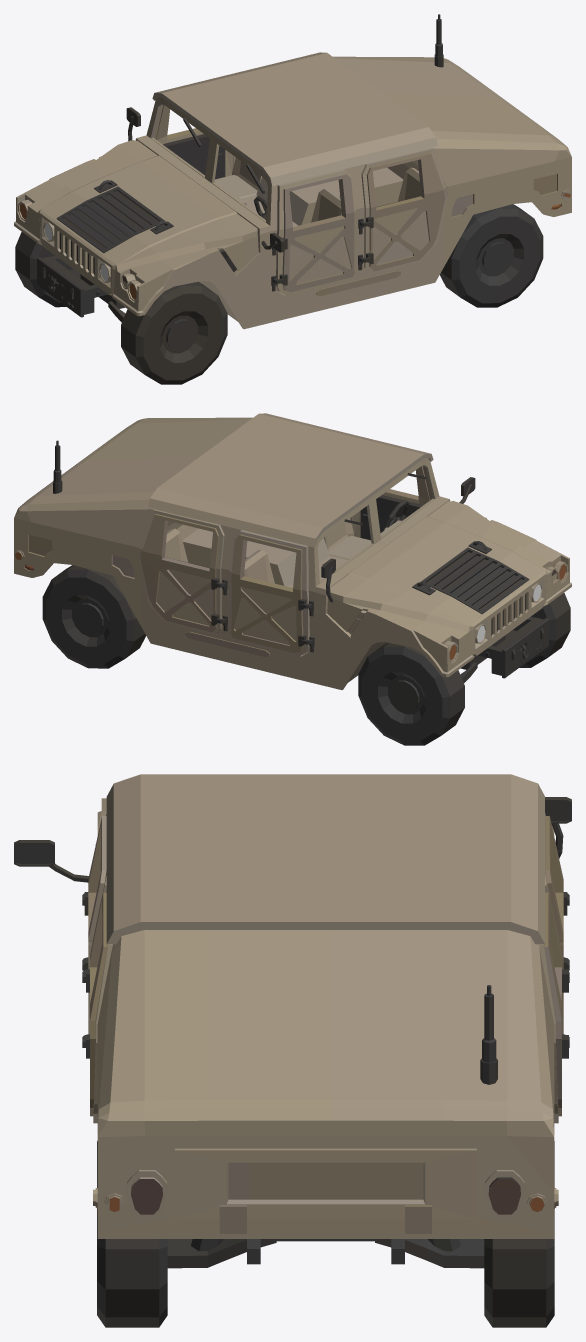
The model's file is tactical_4x4.glb.
3 renders of one model, top to bottom at view 1: azimuth 30°, elevation 25°; view 2: azimuth 150°, elevation 25°; view 3: azimuth 270°, elevation 25°, orthographic. The views are drawn at different scales.
Parts seen in each view (by area): view 1: humvee.001; view 2: humvee.001; view 3: humvee.001.
Boxes of the visible parts, x1=… form: humvee.001: x1=14, y1=14, x2=571, y2=384; humvee.001: x1=14, y1=413, x2=571, y2=745; humvee.001: x1=14, y1=774, x2=571, y2=1327.
Bounding box in the file's own units: 4.68 × 2 × 2.7.
1 material, 1 textured.
